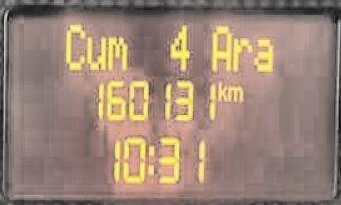0: (121, 133, 144, 183), (126, 76, 150, 121)
1: (193, 133, 209, 181), (107, 136, 121, 183), (157, 76, 171, 120), (202, 78, 215, 123), (91, 78, 105, 119)
3: (156, 133, 179, 184), (173, 76, 194, 123)
4: (166, 20, 190, 71)
6: (105, 76, 126, 121)
X: (61, 19, 85, 73), (208, 21, 231, 73), (251, 35, 275, 75), (82, 31, 105, 71), (231, 31, 251, 75), (105, 33, 126, 71), (145, 139, 156, 178), (226, 83, 243, 101), (216, 75, 226, 101)
